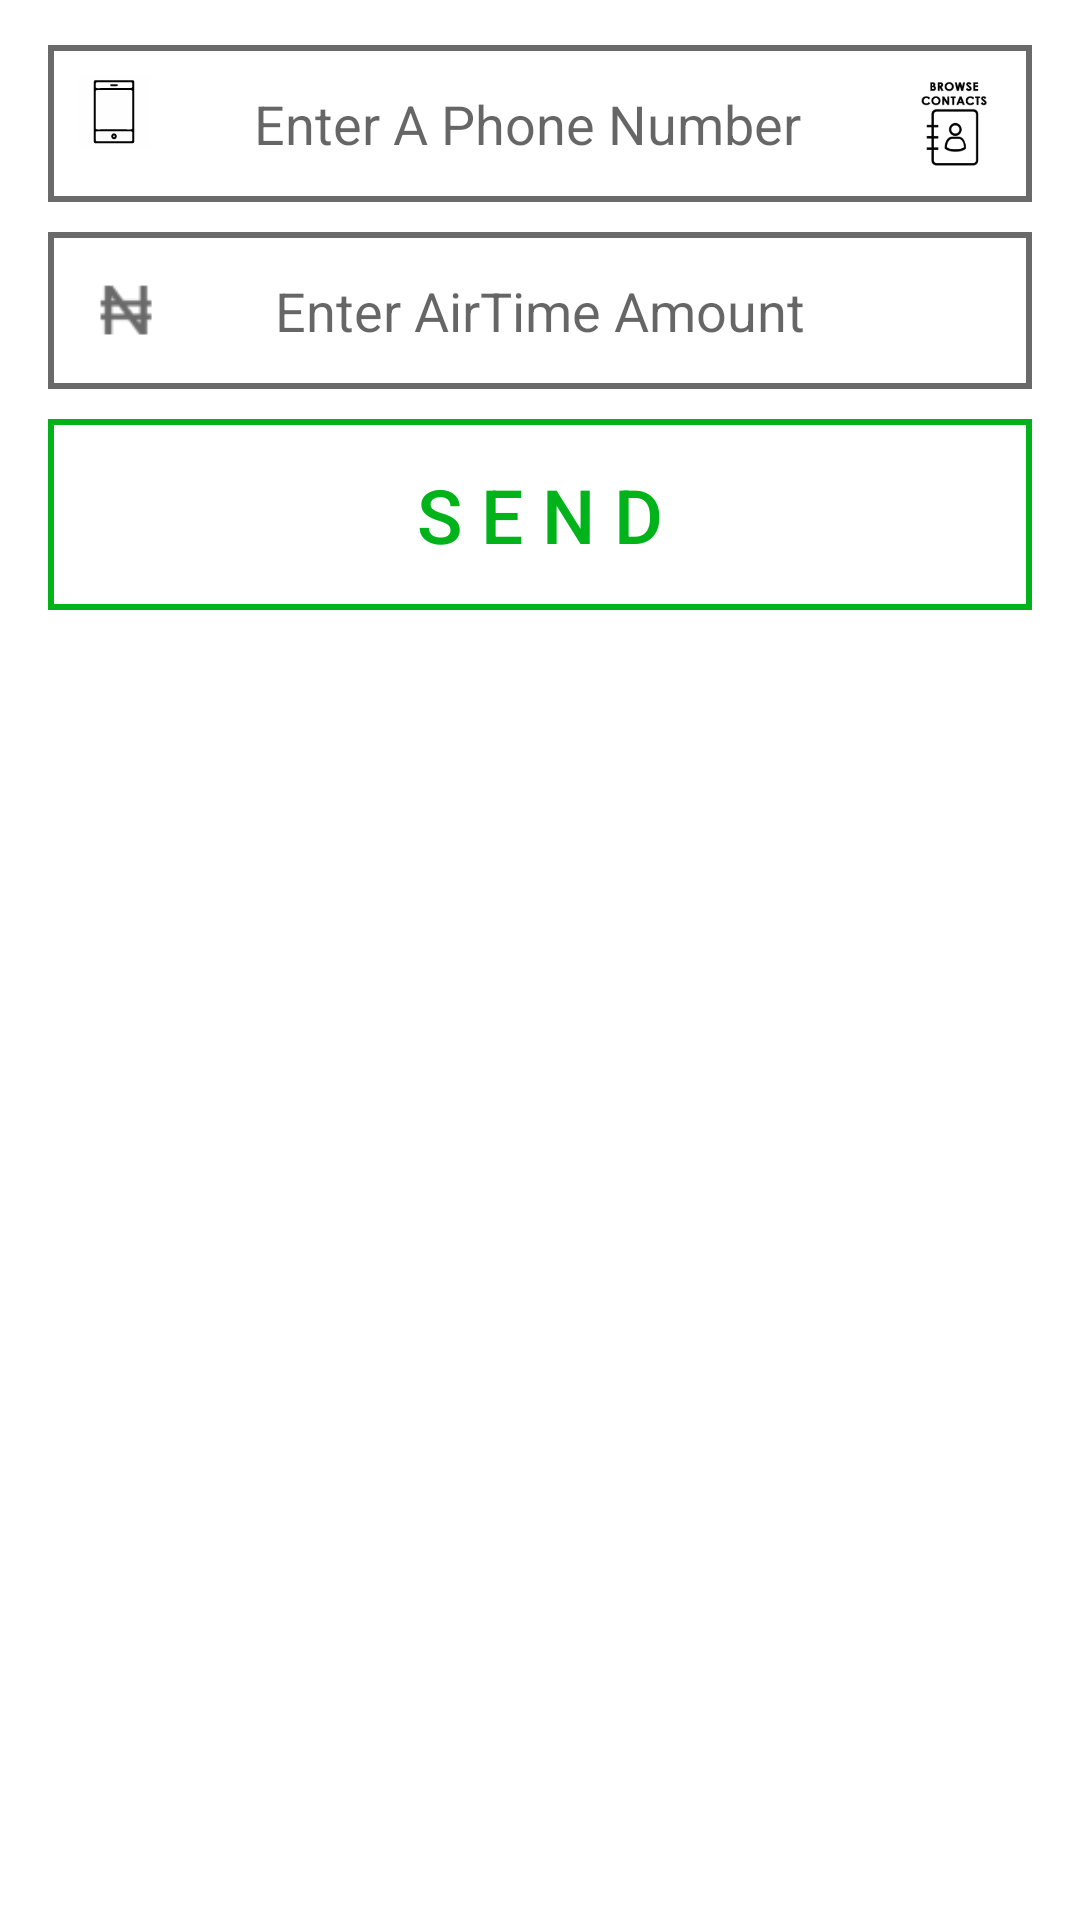

Icon click points for this 1080w x 1920h phone screenshot, format [x,y]:
naira: [126,310]
